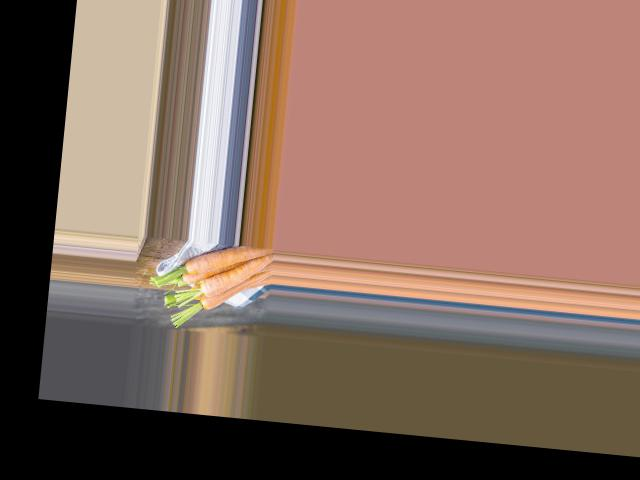carrot: (173, 239, 274, 282)
